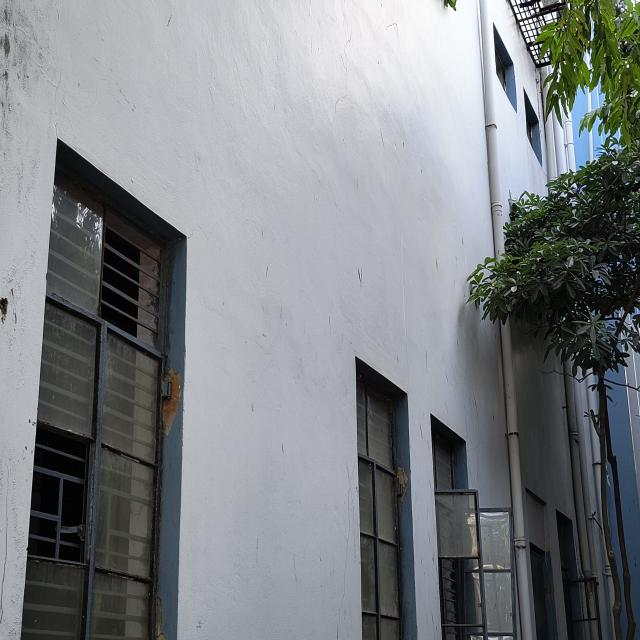Broken window pane: (21, 137, 186, 640), (431, 411, 518, 640)
Crack: (0, 456, 12, 631), (547, 578, 556, 640)
Scaling: (162, 368, 181, 435), (155, 553, 166, 640), (396, 466, 408, 501), (0, 297, 9, 323)
